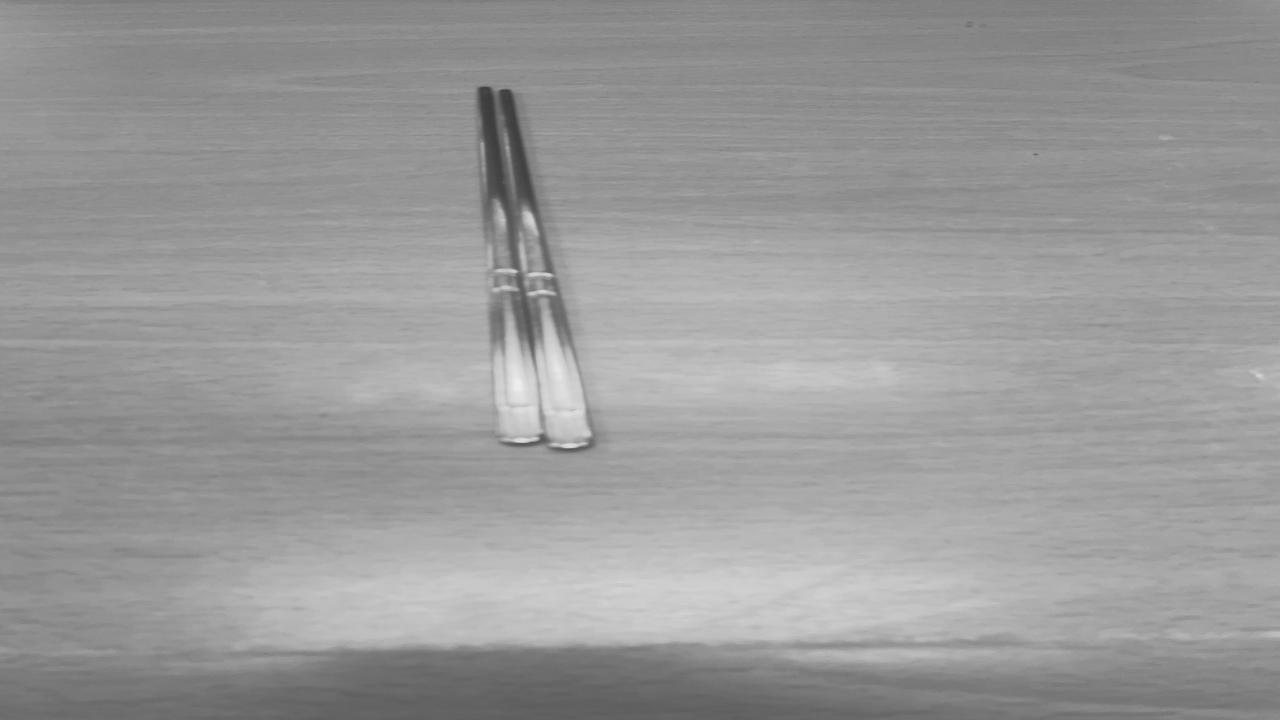chopstick: (481, 86, 588, 447)
